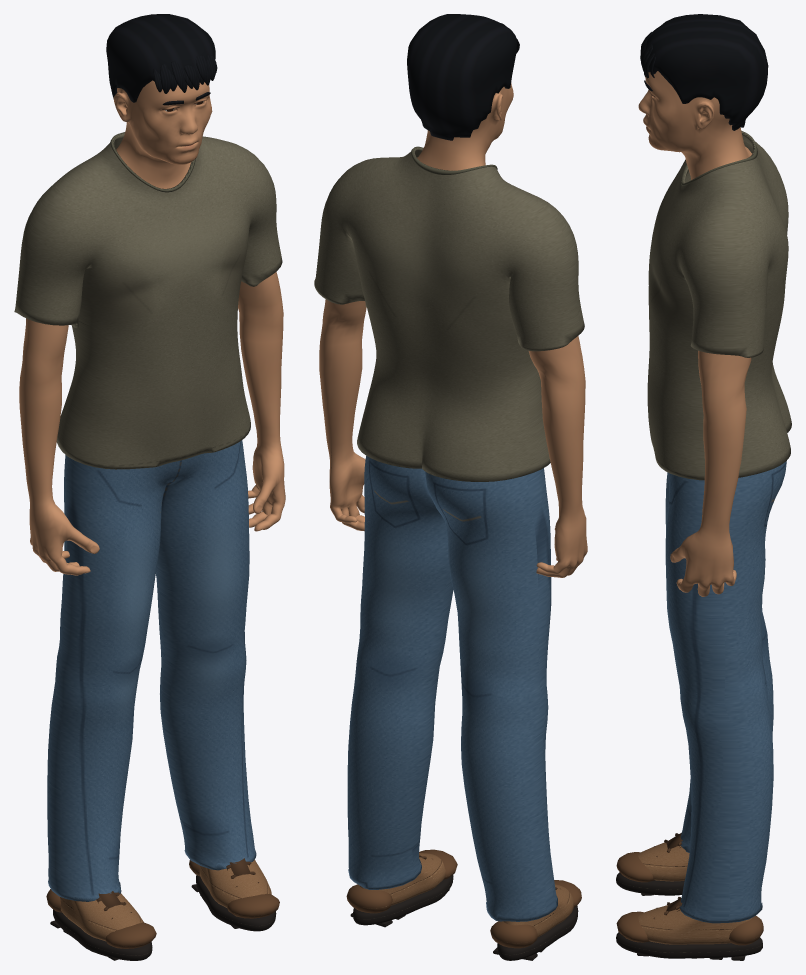
File: alex_wen_set01_v2.glb
3 renders of one model, left to right at view 1: azimuth 30°, elevation 25°; view 2: azimuth 150°, elevation 25°; view 3: azimuth 270°, elevation 25°, orthographic.
Parts seen in each view (by area): view 1: Legs_Jeans, Torso_TShirt, Arms_Skin, Head_Skin, Head_Hair_Cap, Legs_Shoe_Upper_R, Legs_Shoe_Upper_L, Legs_Shoe_Sole_R, Legs_Shoe_Sole_L, Legs_Shoe_ToeCap_L, Legs_Shoe_ToeCap_R; view 2: Legs_Jeans, Torso_TShirt, Arms_Skin, Head_Hair_Cap, Head_Skin, Legs_Shoe_Sole_L, Legs_Shoe_Upper_L, Legs_Shoe_Sole_R, Legs_Shoe_Upper_R, Legs_Shoe_HeelCap_R, Legs_Shoe_HeelCap_L; view 3: Legs_Jeans, Torso_TShirt, Arms_Skin, Head_Hair_Cap, Head_Skin, Legs_Shoe_Upper_L, Legs_Shoe_Sole_L, Legs_Shoe_Upper_R, Legs_Shoe_Sole_R, Legs_Shoe_ToeCap_R, Legs_Shoe_HeelCap_L, Legs_Shoe_ToeCap_L.
Part boxes in pixels (x1,y1,x2,y2): Legs_Jeans: (47, 440, 255, 897); Torso_TShirt: (14, 132, 282, 469); Arms_Skin: (19, 272, 285, 575); Head_Skin: (113, 80, 212, 188); Head_Hair_Cap: (106, 14, 215, 102); Legs_Shoe_Upper_R: (60, 893, 143, 941); Legs_Shoe_Upper_L: (199, 859, 271, 907); Legs_Shoe_Sole_R: (53, 909, 152, 960); Legs_Shoe_Sole_L: (196, 875, 276, 931); Legs_Shoe_ToeCap_L: (227, 893, 279, 918); Legs_Shoe_ToeCap_R: (105, 922, 156, 948); Legs_Jeans: (347, 456, 557, 918); Torso_TShirt: (314, 147, 584, 481); Arms_Skin: (319, 299, 587, 577); Head_Hair_Cap: (407, 14, 517, 140); Head_Skin: (417, 83, 513, 170); Legs_Shoe_Sole_L: (353, 875, 453, 925); Legs_Shoe_Upper_L: (360, 853, 445, 905); Legs_Shoe_Sole_R: (497, 906, 578, 960); Legs_Shoe_Upper_R: (503, 884, 574, 936); Legs_Shoe_HeelCap_R: (490, 921, 537, 948); Legs_Shoe_HeelCap_L: (346, 884, 392, 913); Legs_Jeans: (665, 461, 786, 919); Torso_TShirt: (647, 132, 791, 480); Arms_Skin: (670, 350, 751, 596); Head_Hair_Cap: (646, 14, 768, 130); Head_Skin: (638, 71, 752, 180); Legs_Shoe_Upper_L: (638, 905, 751, 944); Legs_Shoe_Sole_L: (616, 932, 762, 958); Legs_Shoe_Upper_R: (638, 842, 689, 881); Legs_Shoe_Sole_R: (616, 872, 684, 895); Legs_Shoe_ToeCap_R: (616, 852, 654, 882); Legs_Shoe_HeelCap_L: (729, 916, 763, 945); Legs_Shoe_ToeCap_L: (616, 911, 649, 942).
Bounding box in the file's own units: 0.5363 × 1.78 × 0.318.
1 material, 1 textured.
